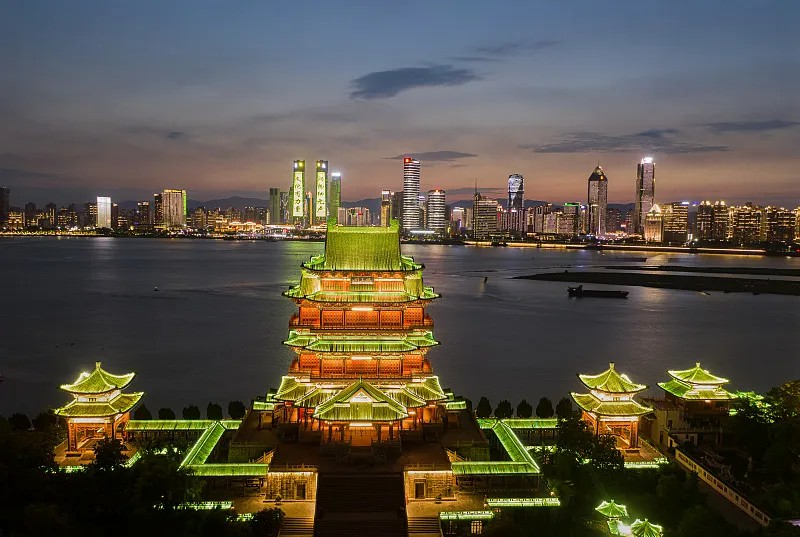Teng: (251, 218, 468, 433)
